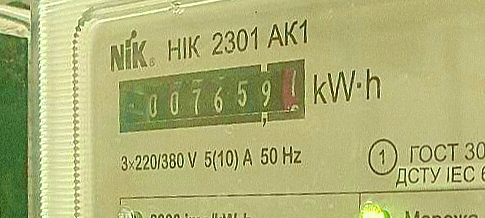0: (146, 89, 161, 117), (168, 88, 182, 115)
1: (287, 67, 300, 99)
5: (234, 76, 251, 109)
6: (212, 82, 226, 114)
7: (189, 83, 204, 116)
9: (258, 75, 275, 109)
screen: (102, 41, 328, 148)
